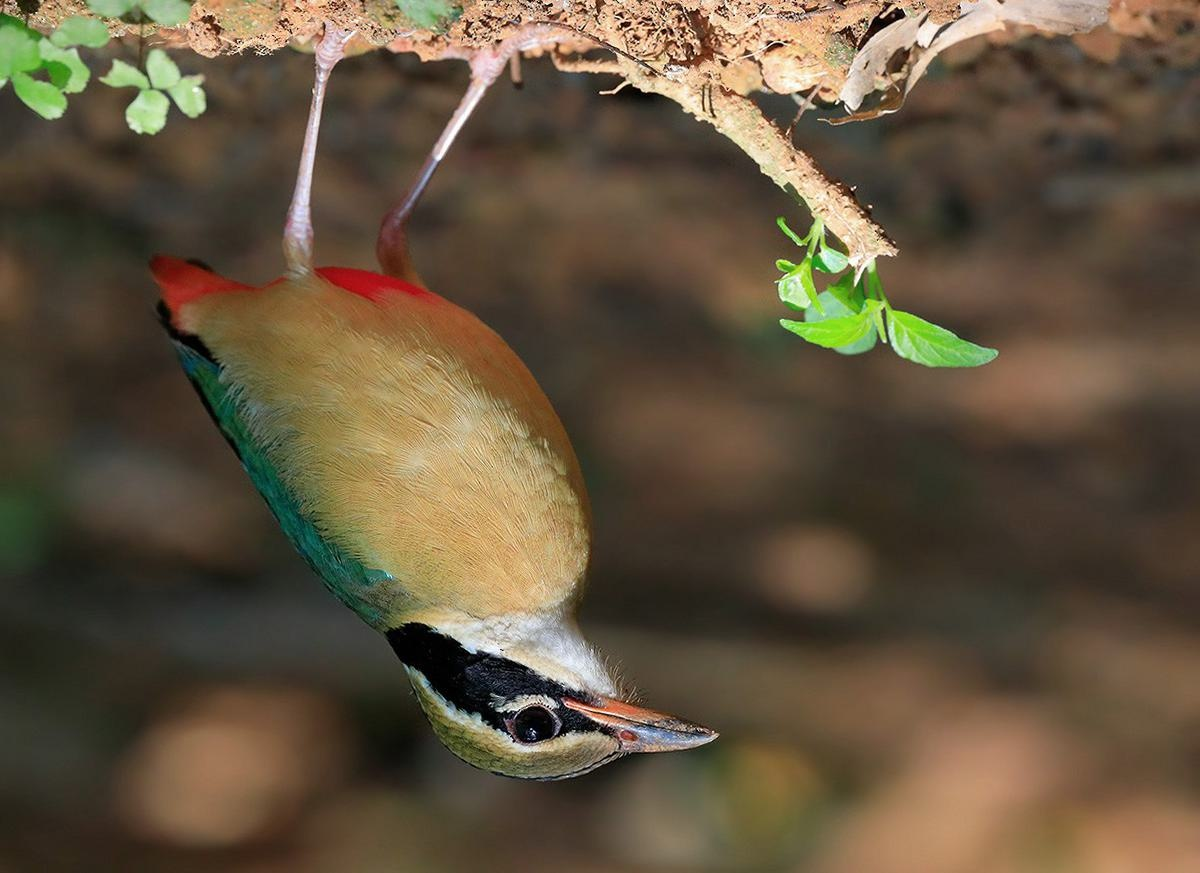pitta: (194, 188, 727, 816)
